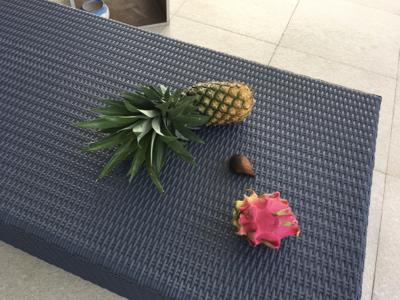dragon fruit: (230, 191, 302, 251)
pineapple: (70, 80, 254, 189)
snake fruit: (228, 153, 255, 180)
